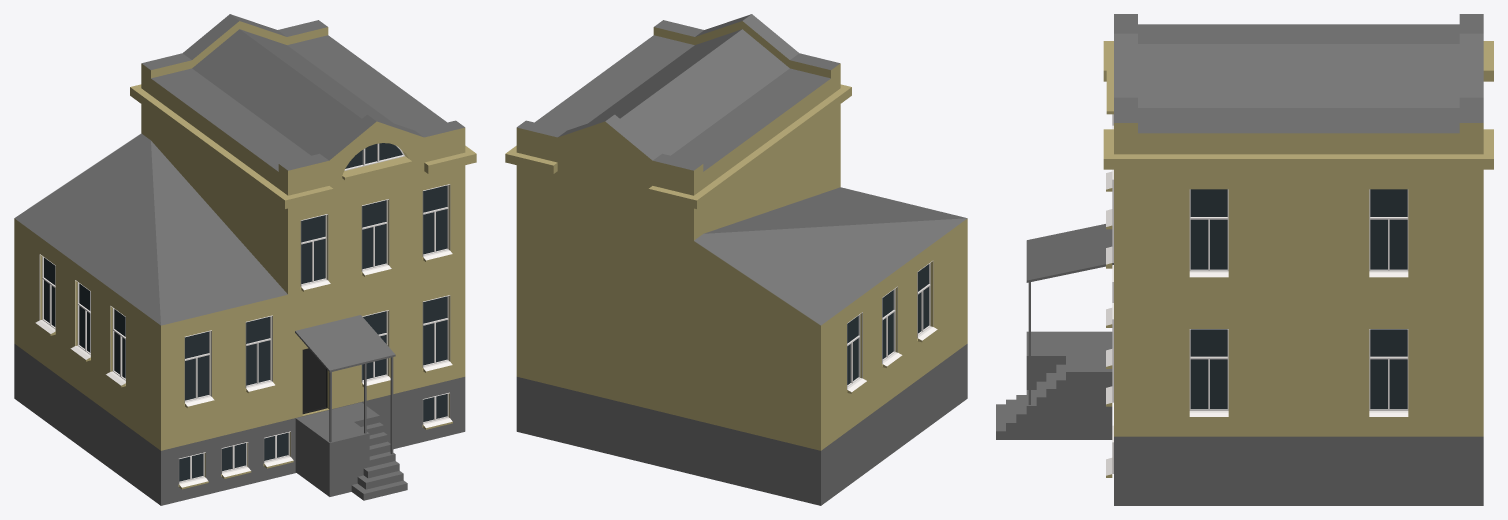
Rendered from Cup.glb.
The picture shows the model from 3 angles, left to right: view 1: azimuth 30°, elevation 25°; view 2: azimuth 150°, elevation 25°; view 3: azimuth 270°, elevation 25°; orthographic projection. The views are drawn at different scales.
Visible parts, largest first — view 1: КС, Cube.008, КС_Окно_2х3.008, Plane.010, КС_Окно_2х3.007, КС_Окно_2х3.010, КС_Окно_2х3.009, КС_Окно_2х3.013, КС_окно полукруг.001, КС_Окно_2х3.001, КС_Окно_2х3.022; view 2: КС, КС_Окно_2х3.010; view 3: КС, Cube.008, КС_Окно_2х3.012, КС_Окно_2х3.011, Plane.010, КС_Окно_2х3.008.
Boxes of the visible parts, x1,y1,x2,y2 form: КС: [14, 14, 476, 505]; Cube.008: [295, 402, 407, 500]; КС_Окно_2х3.008: [300, 184, 452, 291]; Plane.010: [295, 315, 395, 454]; КС_Окно_2х3.007: [184, 315, 275, 408]; КС_Окно_2х3.010: [35, 254, 125, 387]; КС_Окно_2х3.009: [361, 295, 452, 387]; КС_Окно_2х3.013: [178, 431, 293, 489]; КС_окно полукруг.001: [342, 143, 412, 180]; КС_Окно_2х3.001: [302, 348, 328, 415]; КС_Окно_2х3.022: [422, 392, 452, 429]; КС: [505, 14, 967, 505]; КС_Окно_2х3.010: [847, 261, 937, 393]; КС: [1103, 14, 1493, 505]; Cube.008: [996, 331, 1112, 439]; КС_Окно_2х3.012: [1189, 189, 1408, 279]; КС_Окно_2х3.011: [1189, 329, 1408, 418]; Plane.010: [1026, 224, 1113, 404]; КС_Окно_2х3.008: [1106, 114, 1113, 266].
Bounding box in the file's own units: 2.67 × 2.67 × 2.89.
